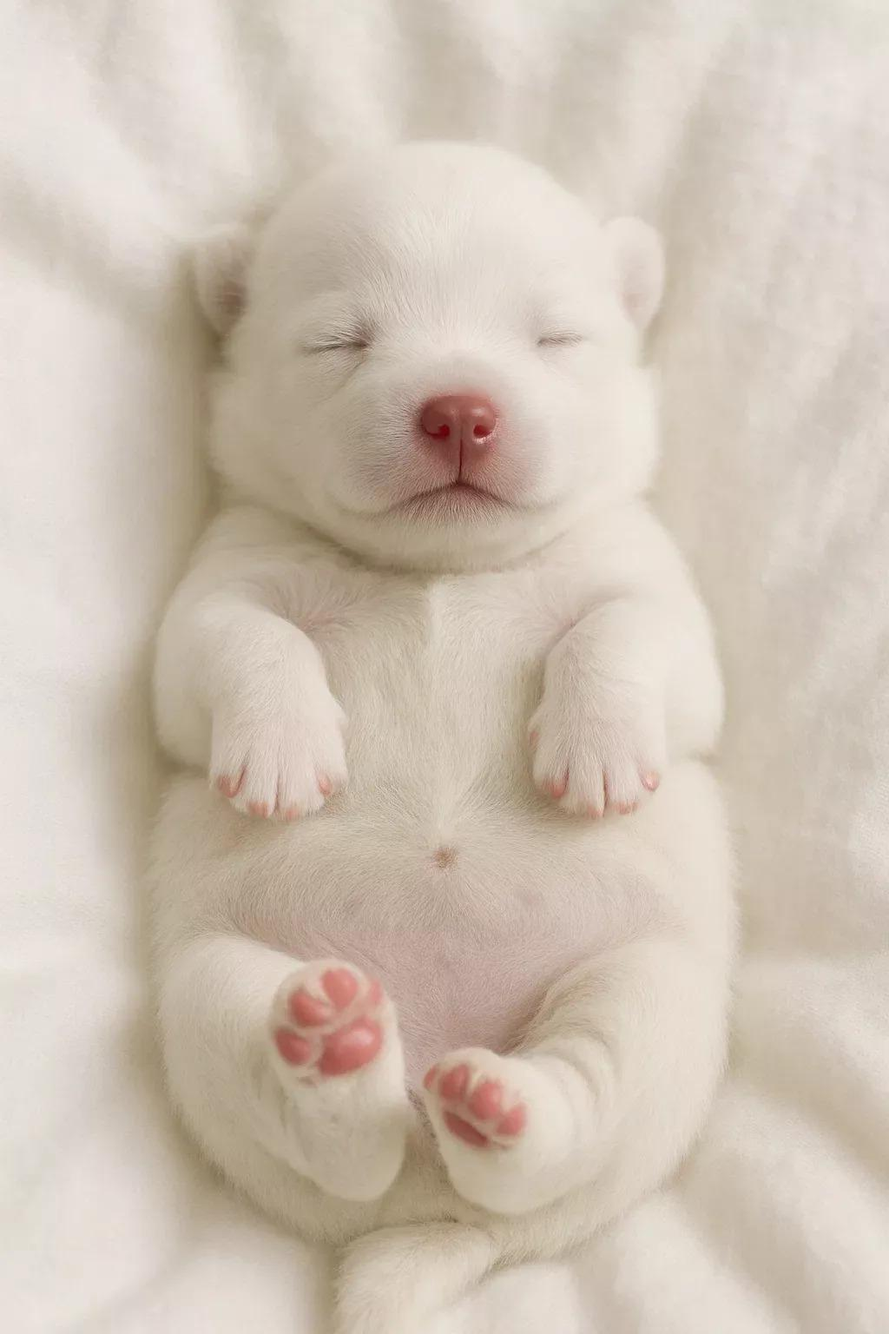puppy-dog: (125, 140, 735, 1325)
